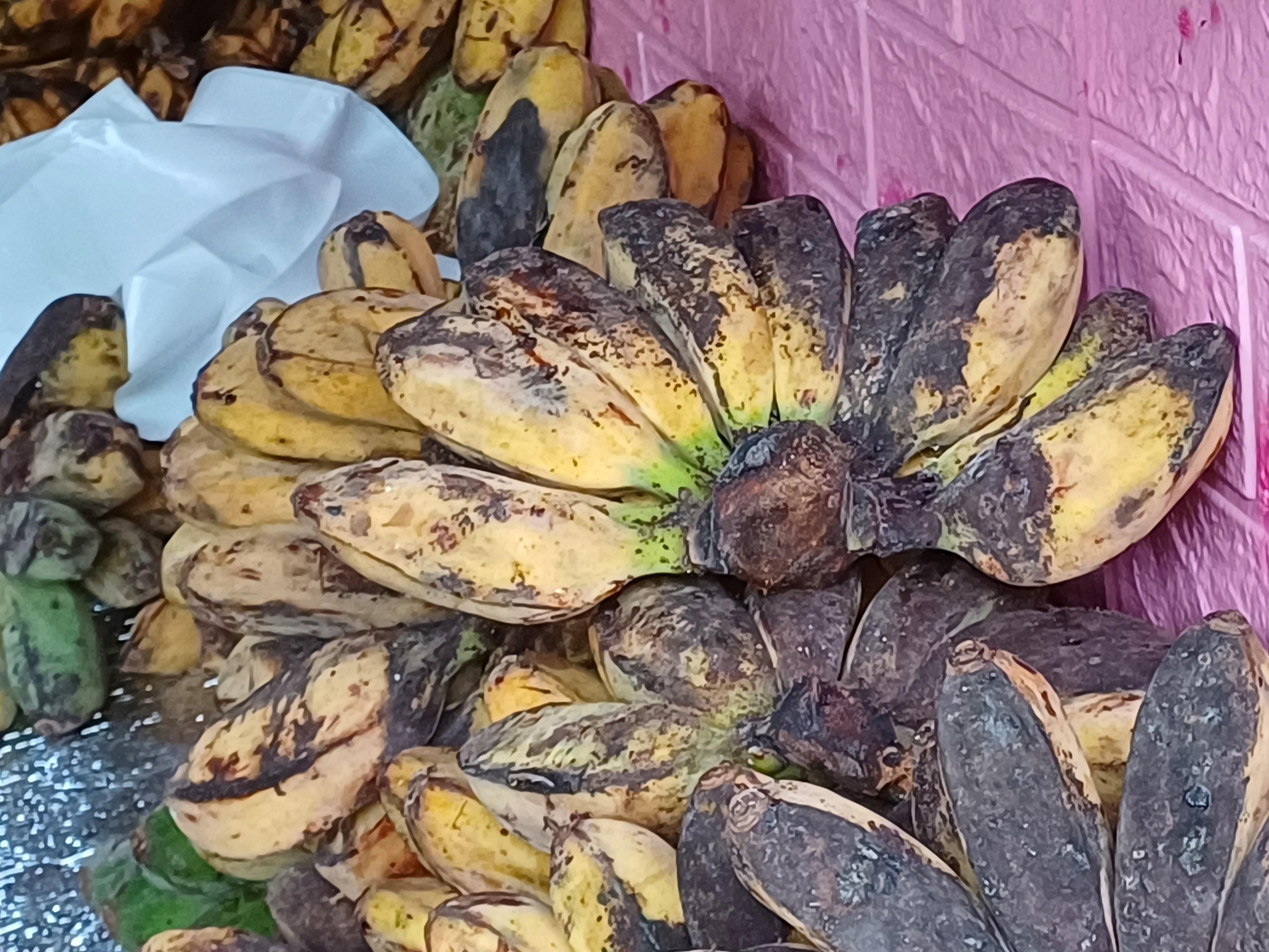overripe: (452, 557, 1180, 855), (730, 609, 1269, 952)
ripe: (292, 176, 1239, 628), (155, 210, 474, 885), (265, 743, 838, 952), (454, 41, 760, 282)
underripe: (0, 293, 187, 743)
